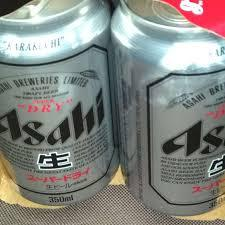beer: (1, 1, 225, 216)
